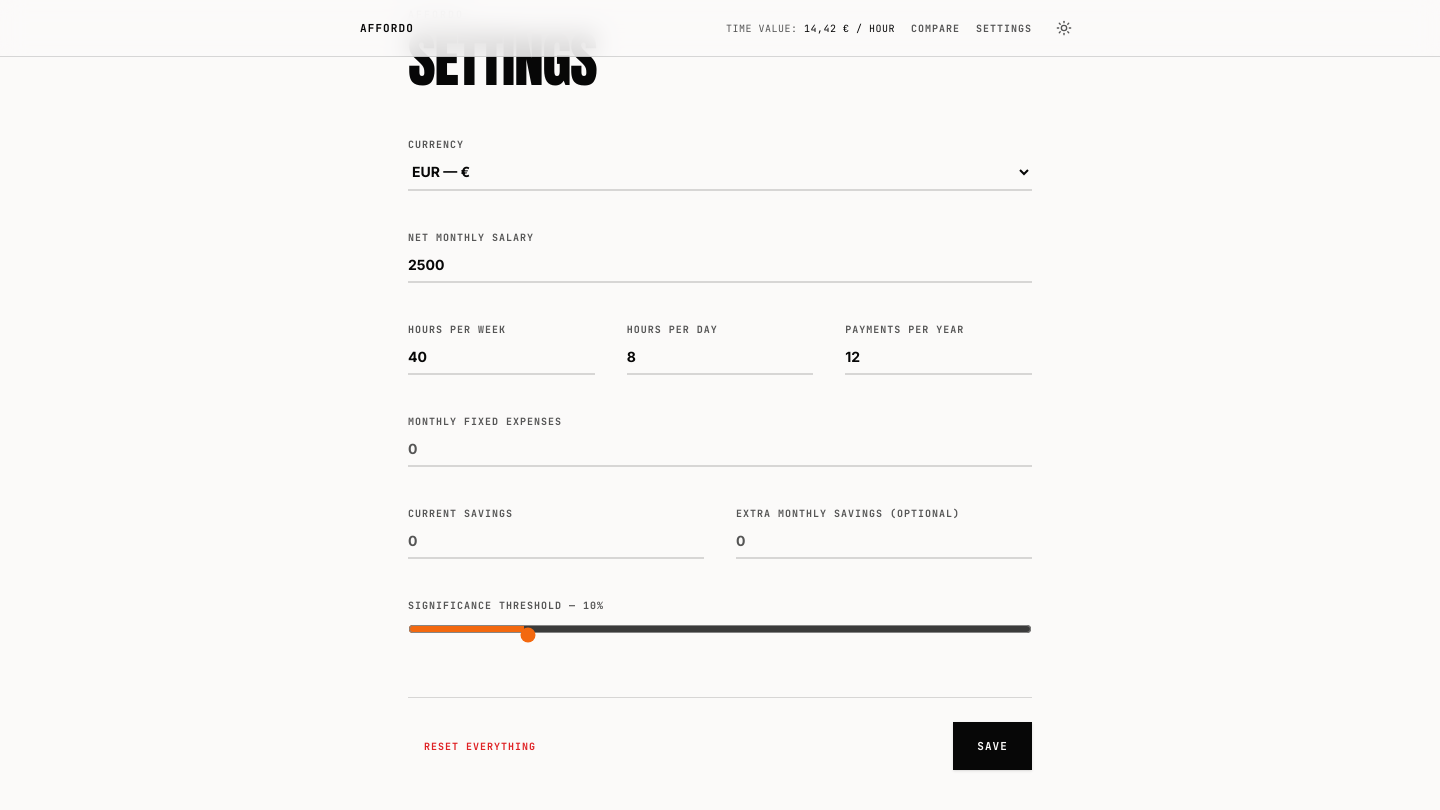
Test case: SettingsScreen — Save persists the draft and confirms with a toast › raises a success toast on Save
The image size is (1440, 810).
(page scrolled)
Click the button "Save": (993, 746) x1=953 y1=722 x2=1032 y2=770
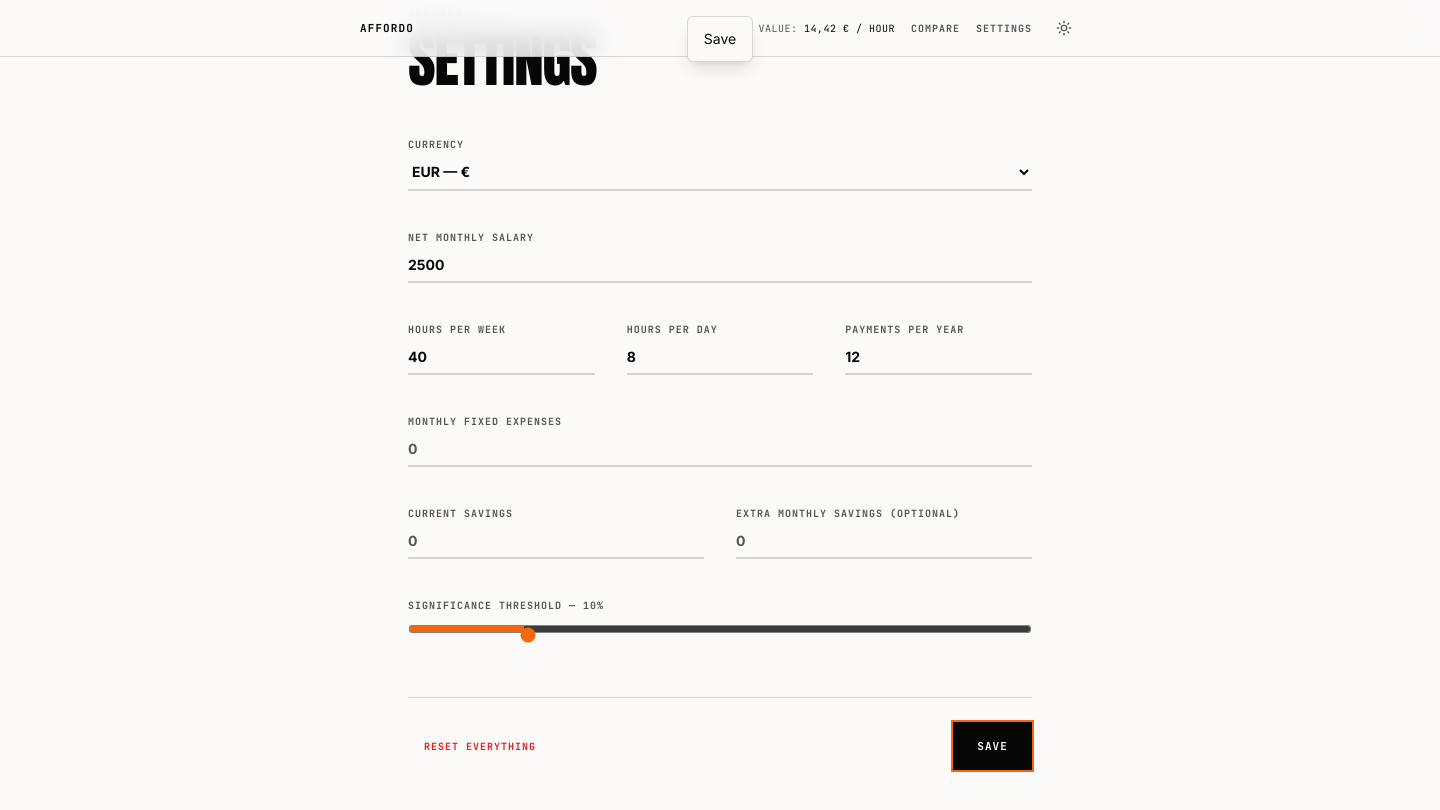
Expected: the message reads "Save", x1=704 y1=30 x2=736 y2=47
